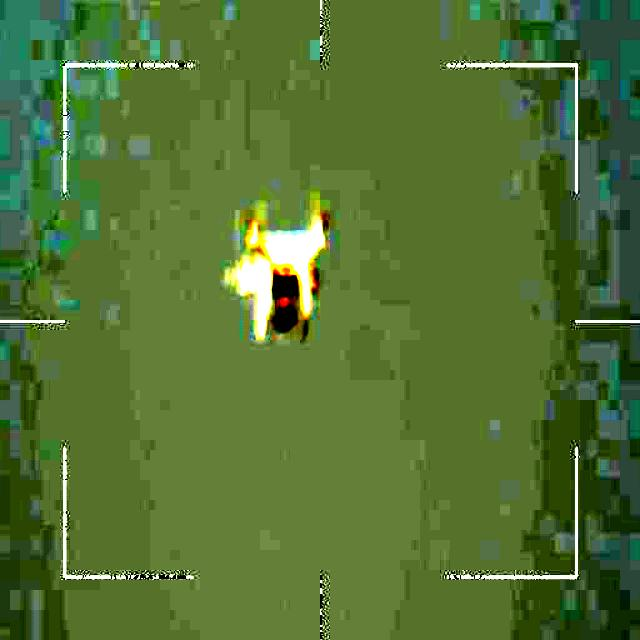bird: (228, 219, 335, 339)
